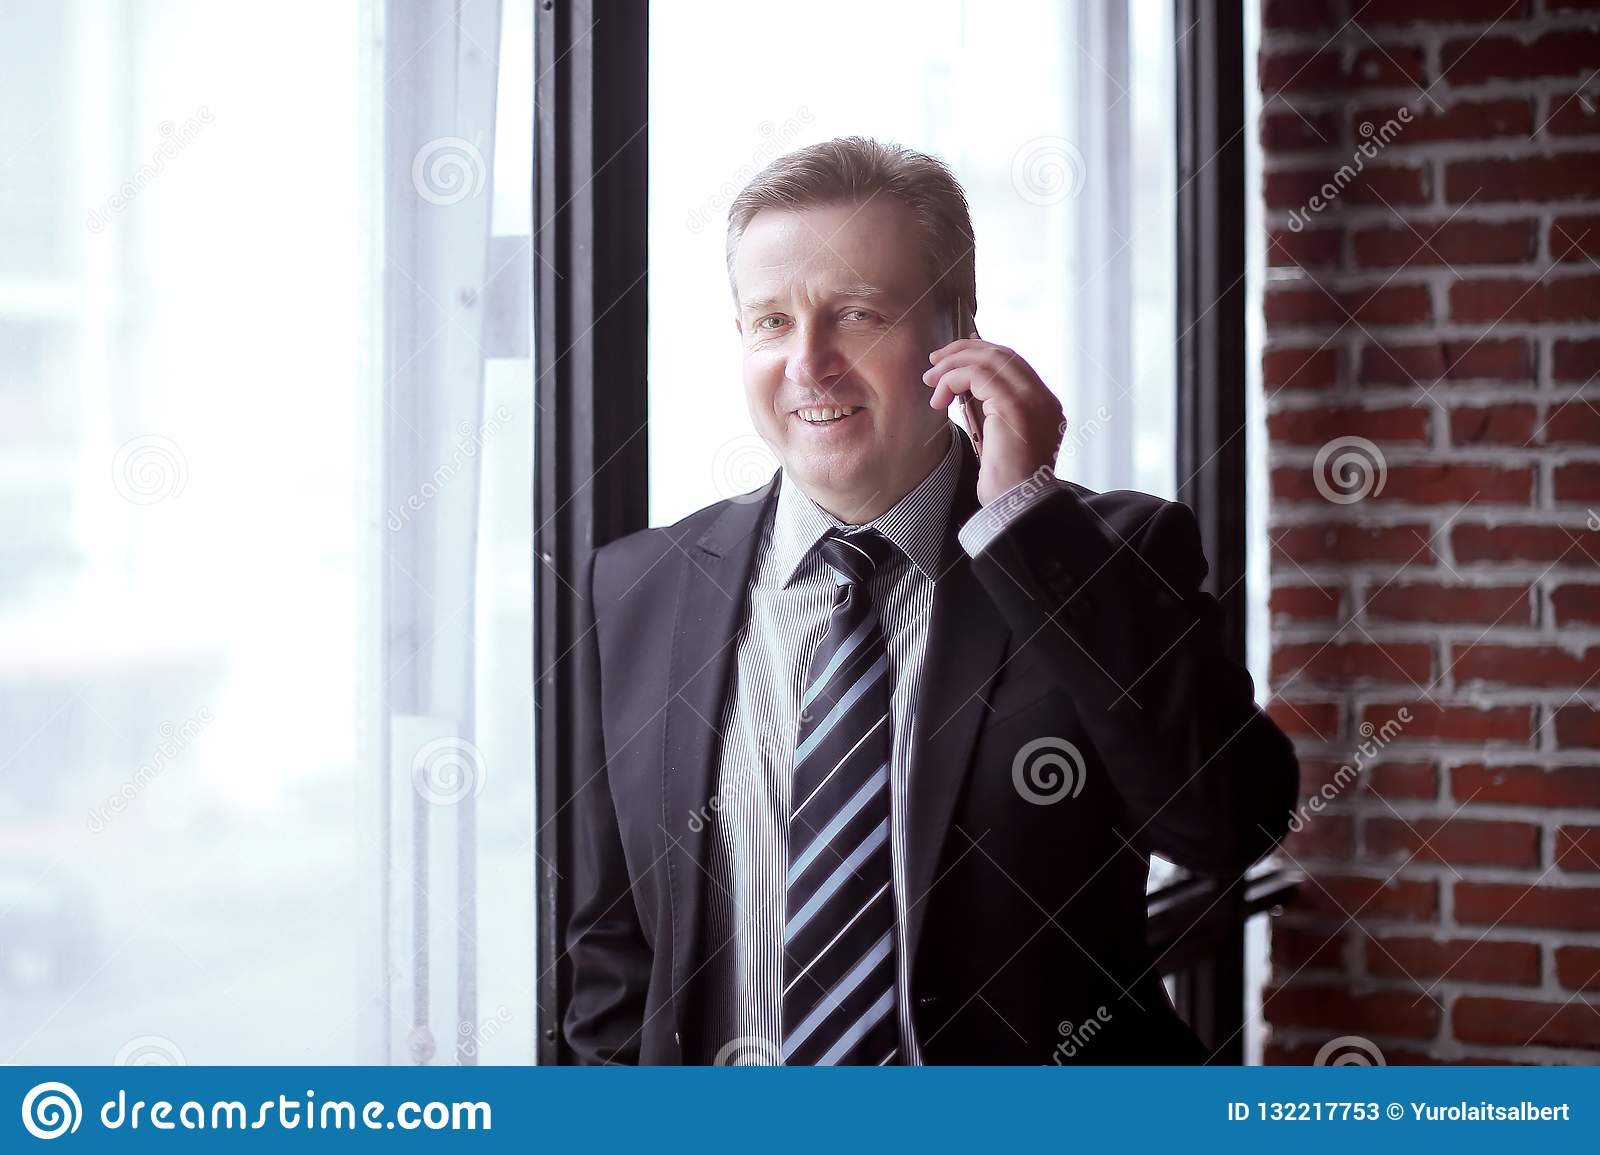phone: (949, 294, 993, 469)
talk: (735, 269, 1070, 504)
